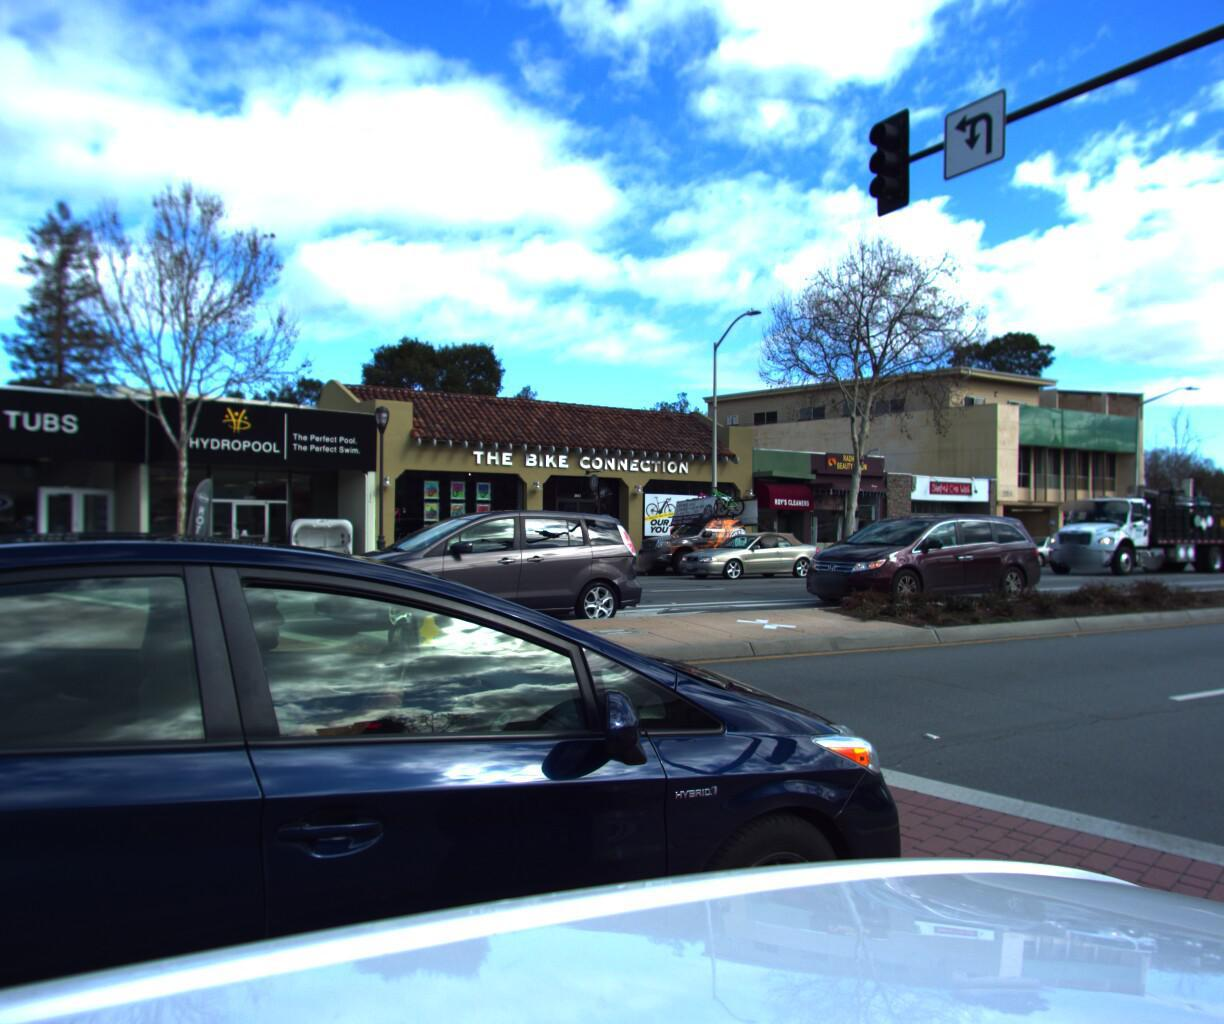car: (0, 507, 931, 1024), (292, 501, 661, 637), (781, 507, 1053, 604), (623, 513, 800, 575), (479, 527, 642, 581), (672, 522, 823, 580), (804, 513, 918, 569), (981, 531, 1086, 564)
truck: (1022, 466, 1224, 575)
